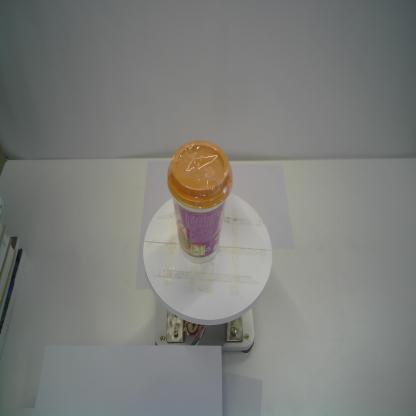Instant Drink: (166, 140, 234, 266)
